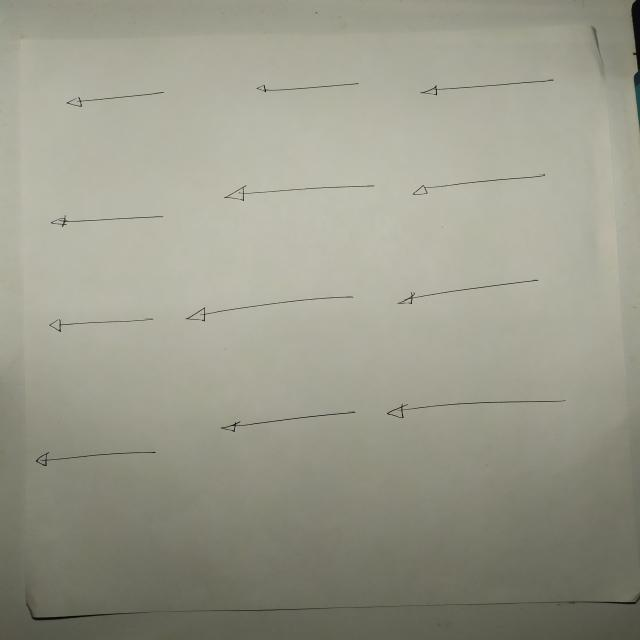arrow_line_left: (379, 390, 577, 428), (210, 175, 380, 213), (390, 273, 549, 311), (178, 294, 360, 326), (206, 404, 364, 438), (407, 170, 559, 204), (43, 202, 174, 235), (58, 82, 172, 115), (411, 74, 563, 98), (38, 307, 164, 335), (240, 78, 374, 102), (32, 448, 171, 470)
